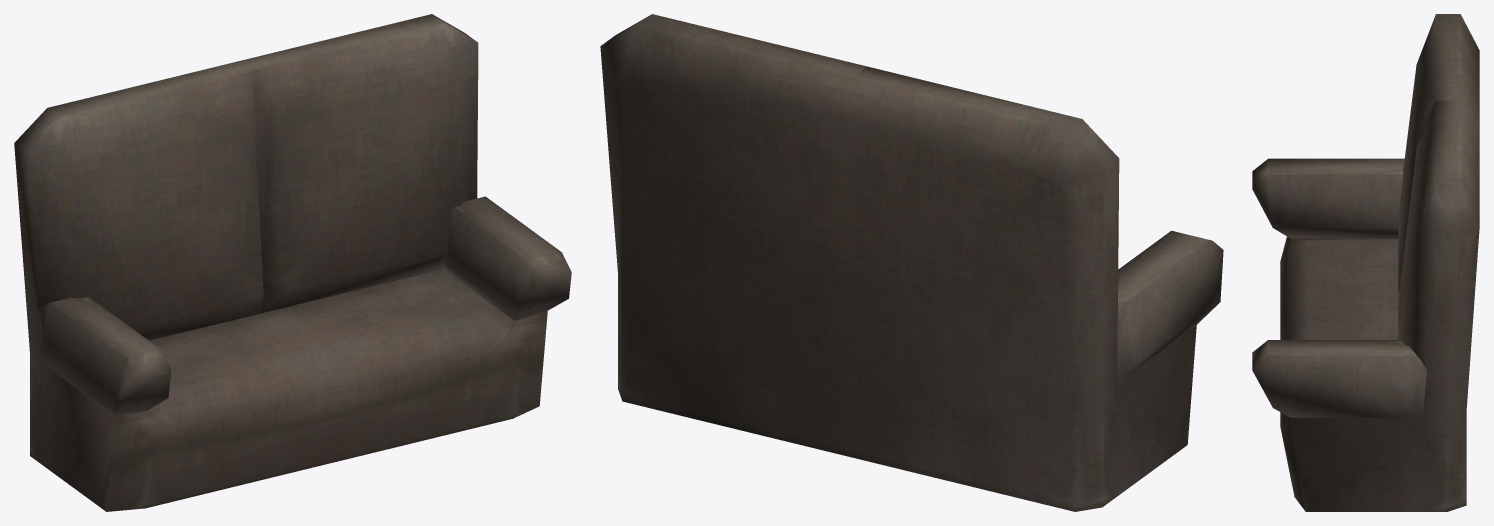
Rendered from frn_all_couch_love_seat_s2_l1.fbx.
3 views of the same model, side by side, from view 1: azimuth 30°, elevation 25°; view 2: azimuth 150°, elevation 25°; view 3: azimuth 270°, elevation 25° (orthographic). The views are drawn at different scales.
Visible parts, largest first — view 1: mesh_node; view 2: mesh_node; view 3: mesh_node.
Part boxes in pixels (left/top/right/bottom): mesh_node: left=14, top=14, right=571, bottom=511; mesh_node: left=600, top=14, right=1223, bottom=511; mesh_node: left=1252, top=14, right=1479, bottom=511.
Size of the model in its own units: 1.75 by 1.24 by 0.8148.
